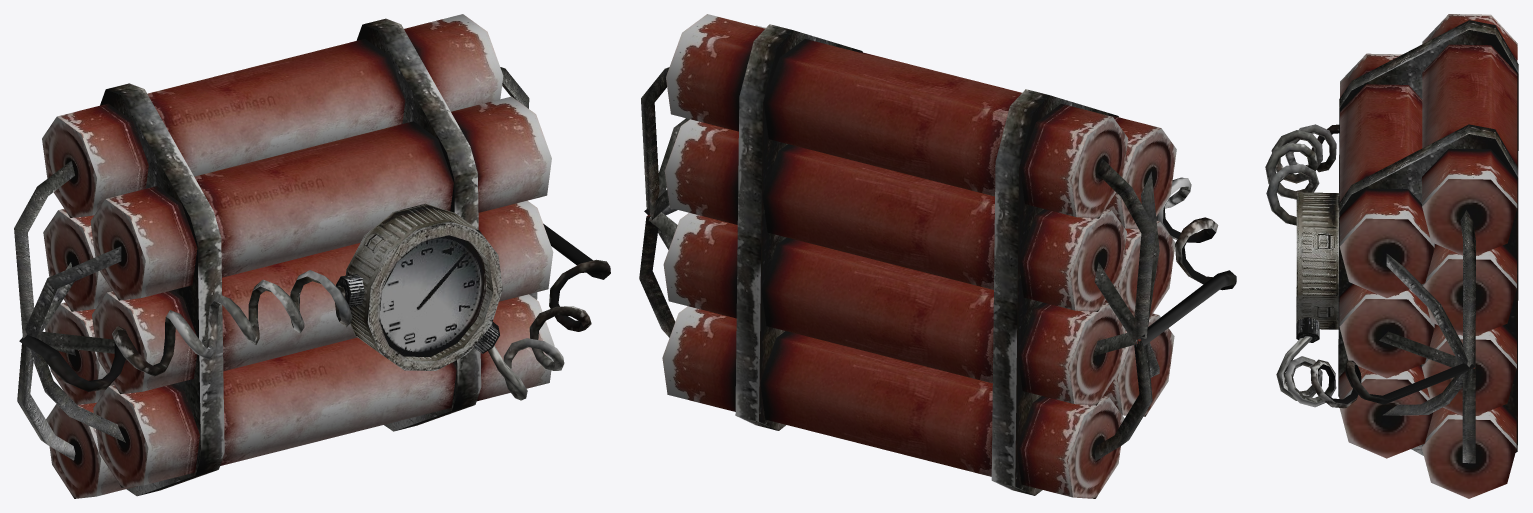
File: dynamite.obj
The picture shows the model from 3 angles, left to right: view 1: azimuth 30°, elevation 25°; view 2: azimuth 150°, elevation 25°; view 3: azimuth 270°, elevation 25°; orthographic projection. The views are drawn at different scales.
Visible parts, largest first — view 1: Box02; view 2: Box02; view 3: Box02.
Boxes of the visible parts, bbox=[...] form: Box02: bbox=[14, 14, 610, 498]; Box02: bbox=[639, 14, 1236, 498]; Box02: bbox=[1265, 14, 1518, 498].
Size of the model in its own units: 455 by 311 by 212.
